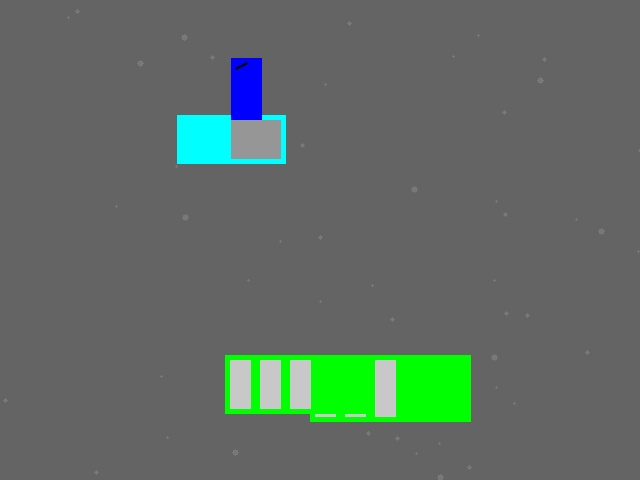bus: (310, 355, 470, 421), (225, 355, 366, 413)
motorcycle: (231, 58, 261, 119)
truck: (177, 115, 285, 163)
